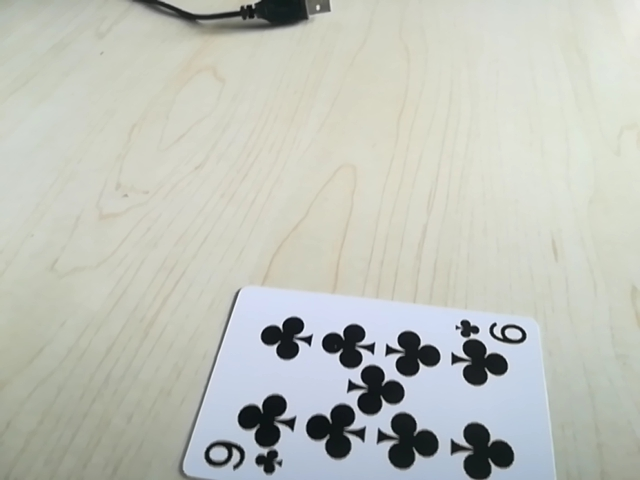mh 9: (198, 447, 284, 477), (453, 316, 532, 348)
